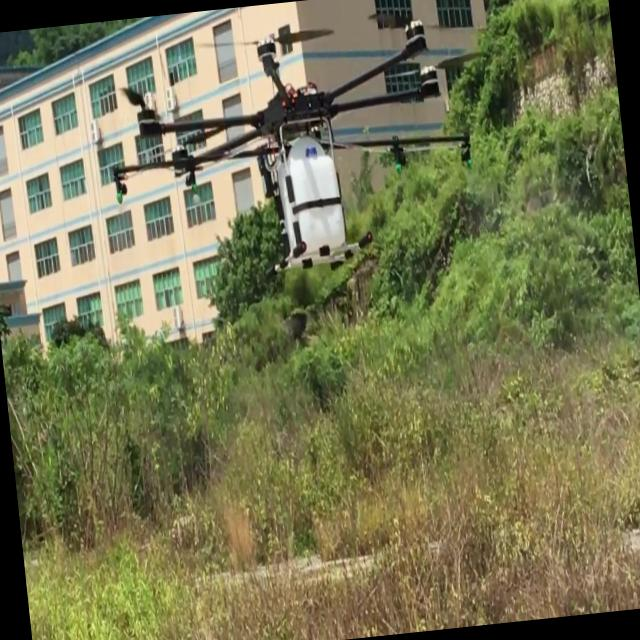drone: (100, 8, 483, 294)
